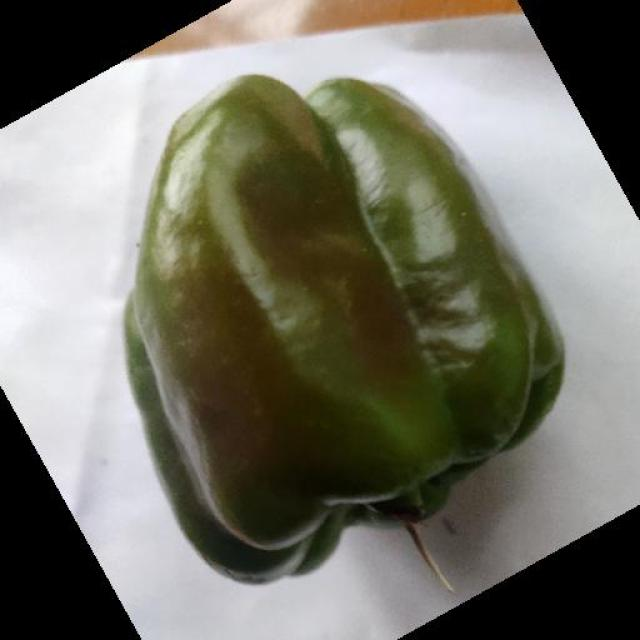Stale_Capsicum: (83, 95, 567, 546)
